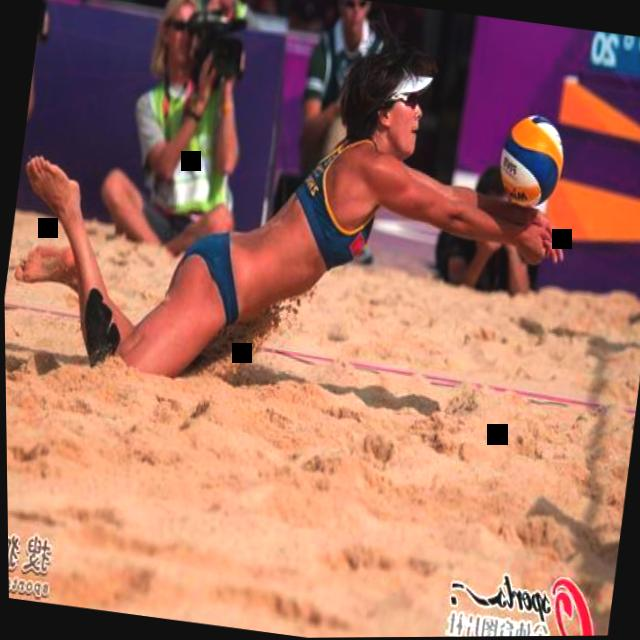Fall-Detected: (0, 0, 581, 448)
